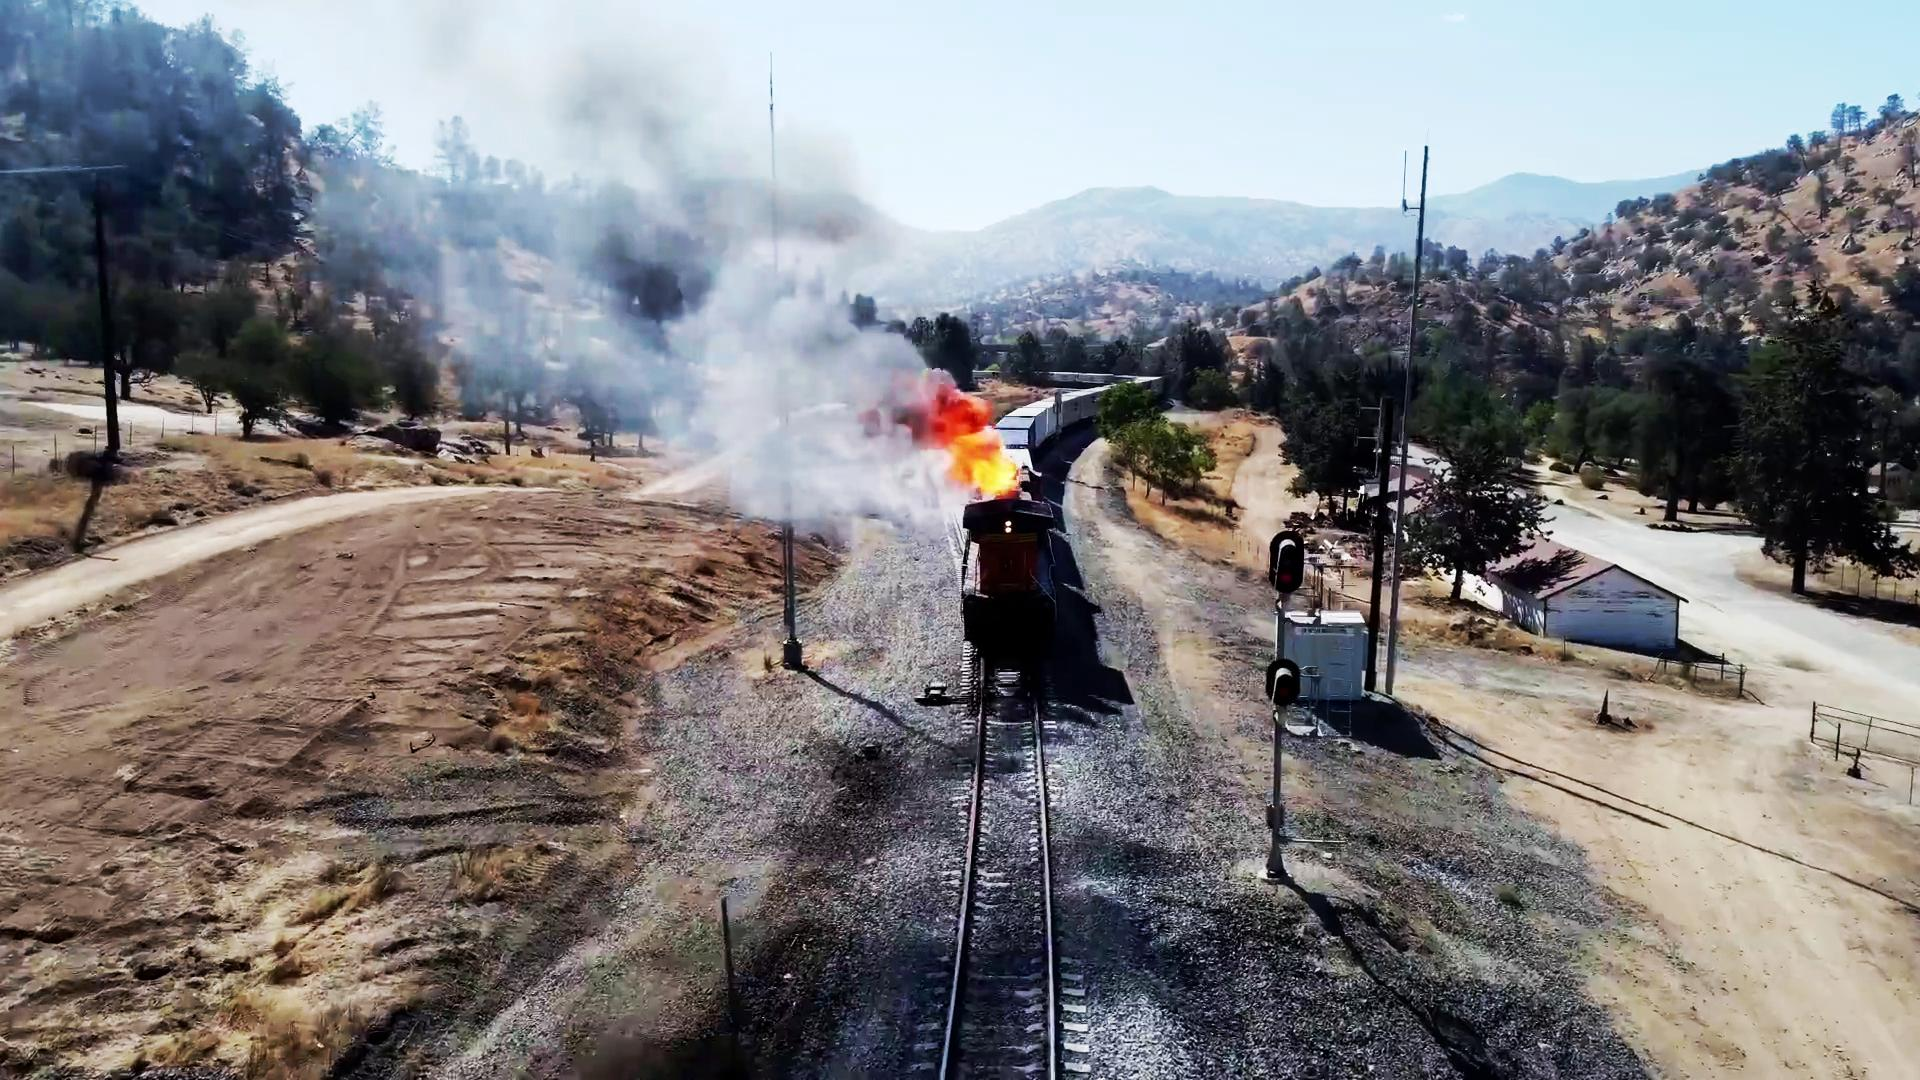fire: (935, 388, 1023, 510)
smoke: (543, 50, 781, 320), (717, 278, 949, 488)
